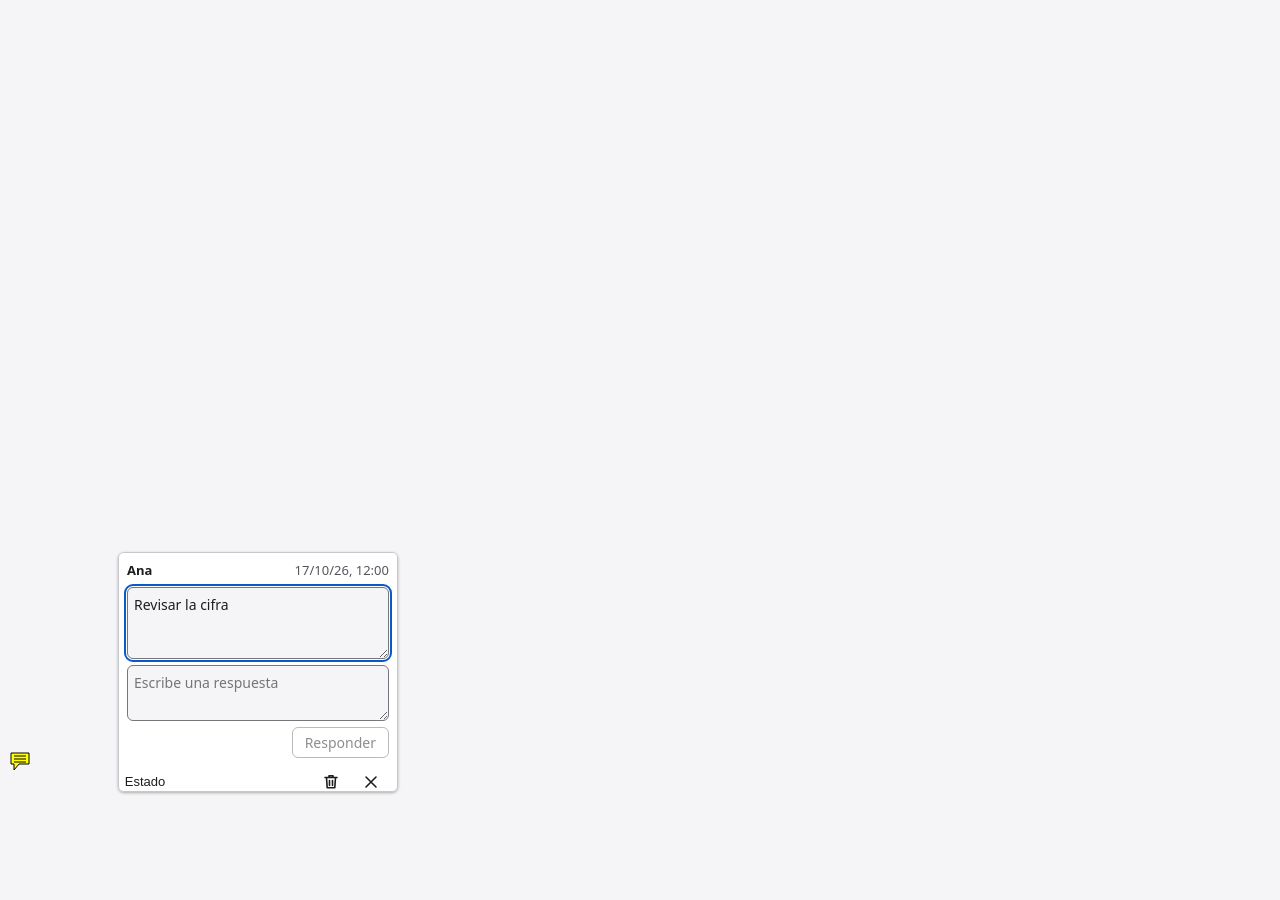
it: Ventana de comentario · respuestas y estados (PDF-109) › editar una respuesta con teclado: Intro confirma, Escape cancela
Step 1. Type "Primera" into the text box labelled "Escribe una respuesta" → {"x": 258, "y": 692}, box x1=127 y1=664 x2=389 y2=720
Step 2. Click the button "Responder" → {"x": 340, "y": 742}, box x1=292 y1=726 x2=389 y2=758
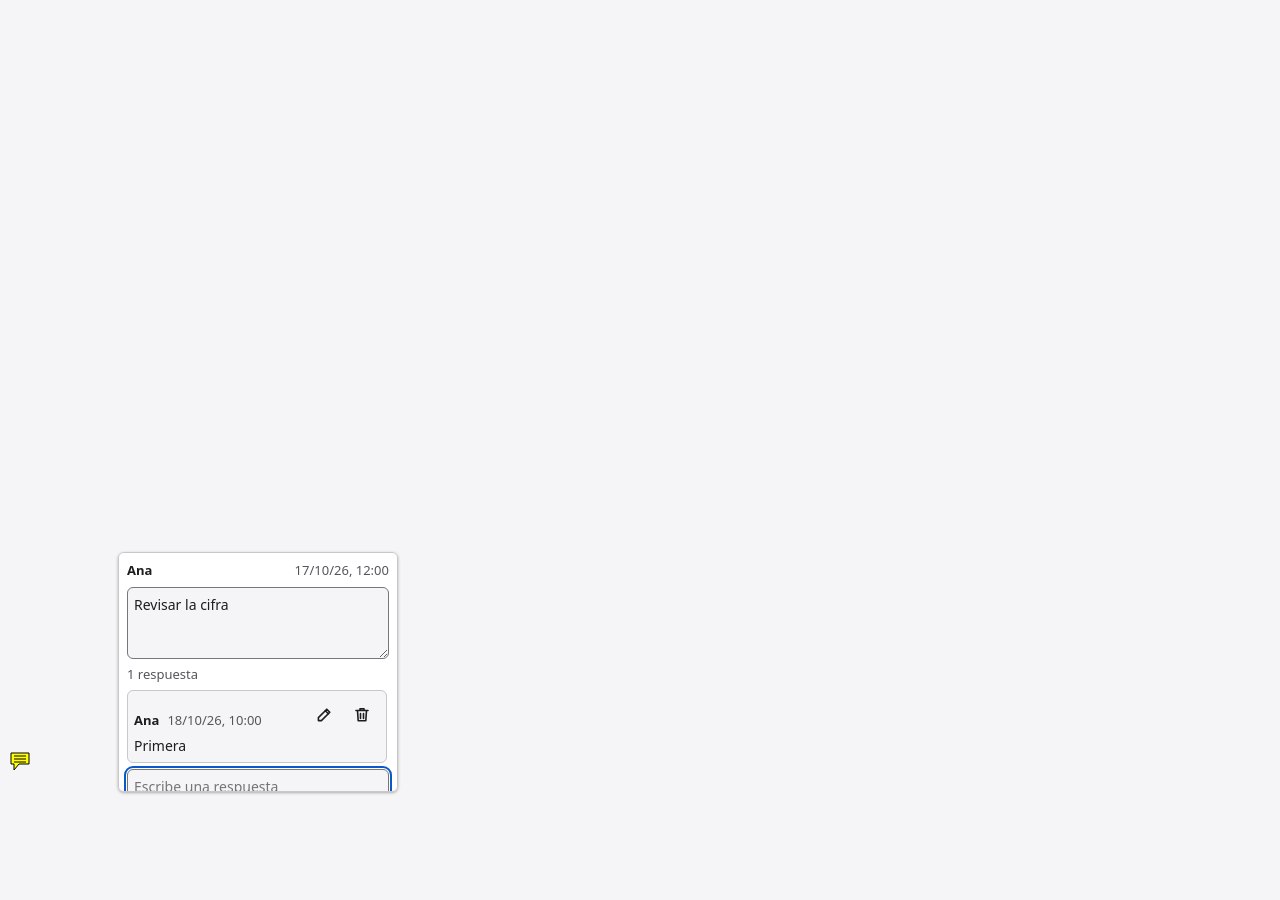
Step 3. Click the button named "Editar respuesta" → {"x": 324, "y": 715}, box x1=306 y1=697 x2=342 y2=733
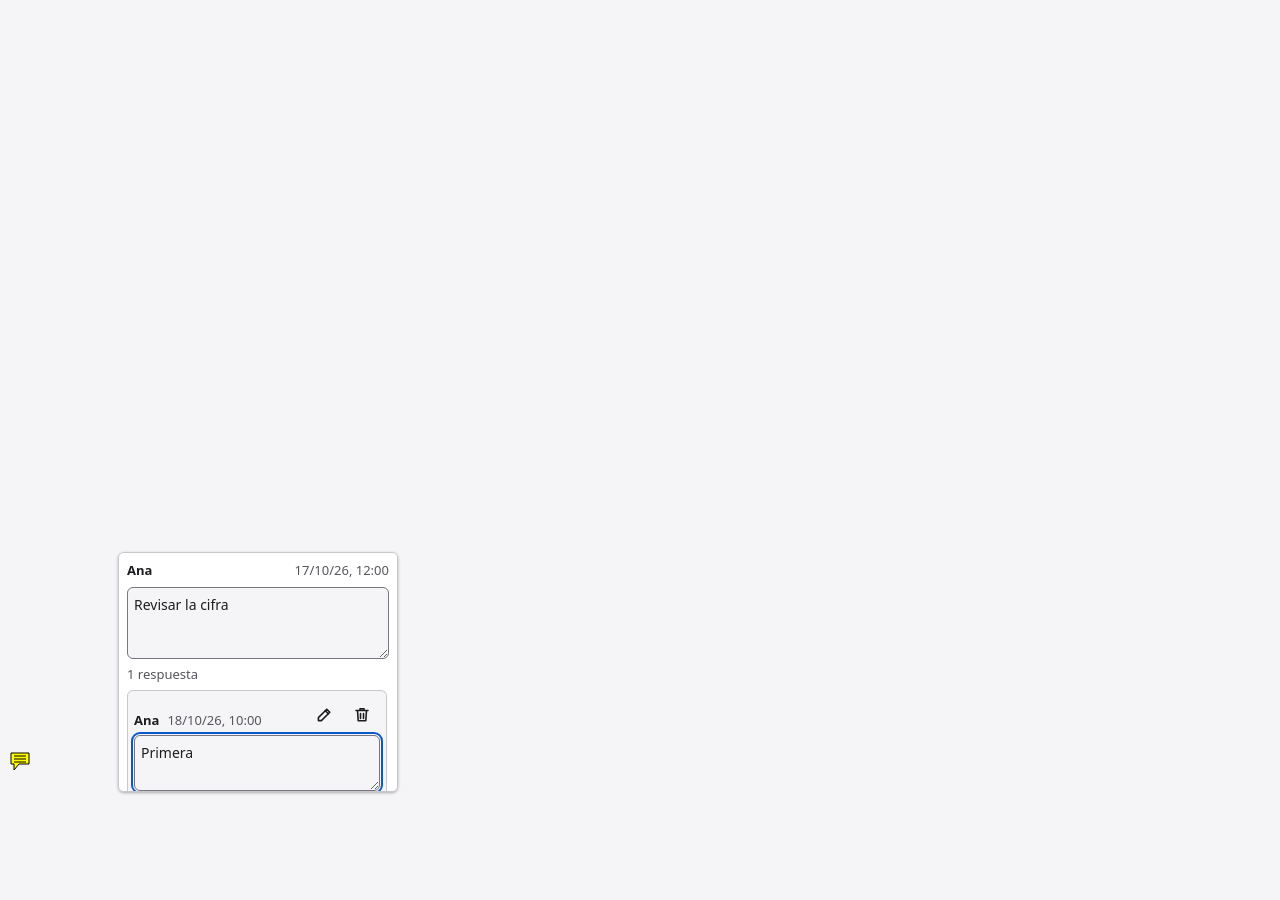
Step 4. Replace the text in the text box named "Editar respuesta" with "Editada" → {"x": 257, "y": 763}, box x1=134 y1=735 x2=380 y2=791
Step 5. Press Escape in the text box named "Editar respuesta", box x1=134 y1=735 x2=380 y2=791
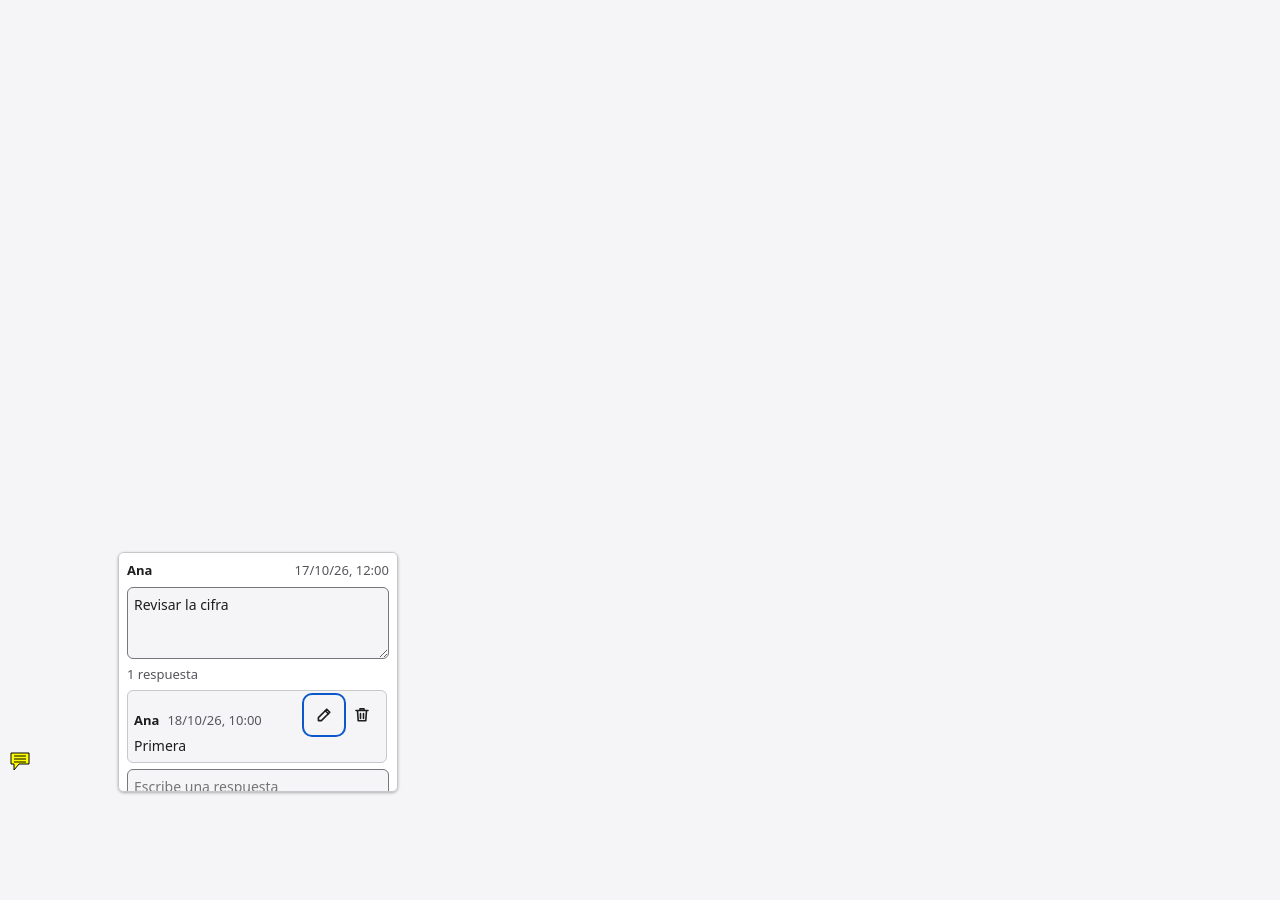
Expected: the dialog is shown, x1=118 y1=552 x2=398 y2=792
Expected: the text "Primera" is shown, x1=134 y1=736 x2=186 y2=755
Step 6. Click the button named "Editar respuesta" → {"x": 324, "y": 715}, box x1=306 y1=697 x2=342 y2=733
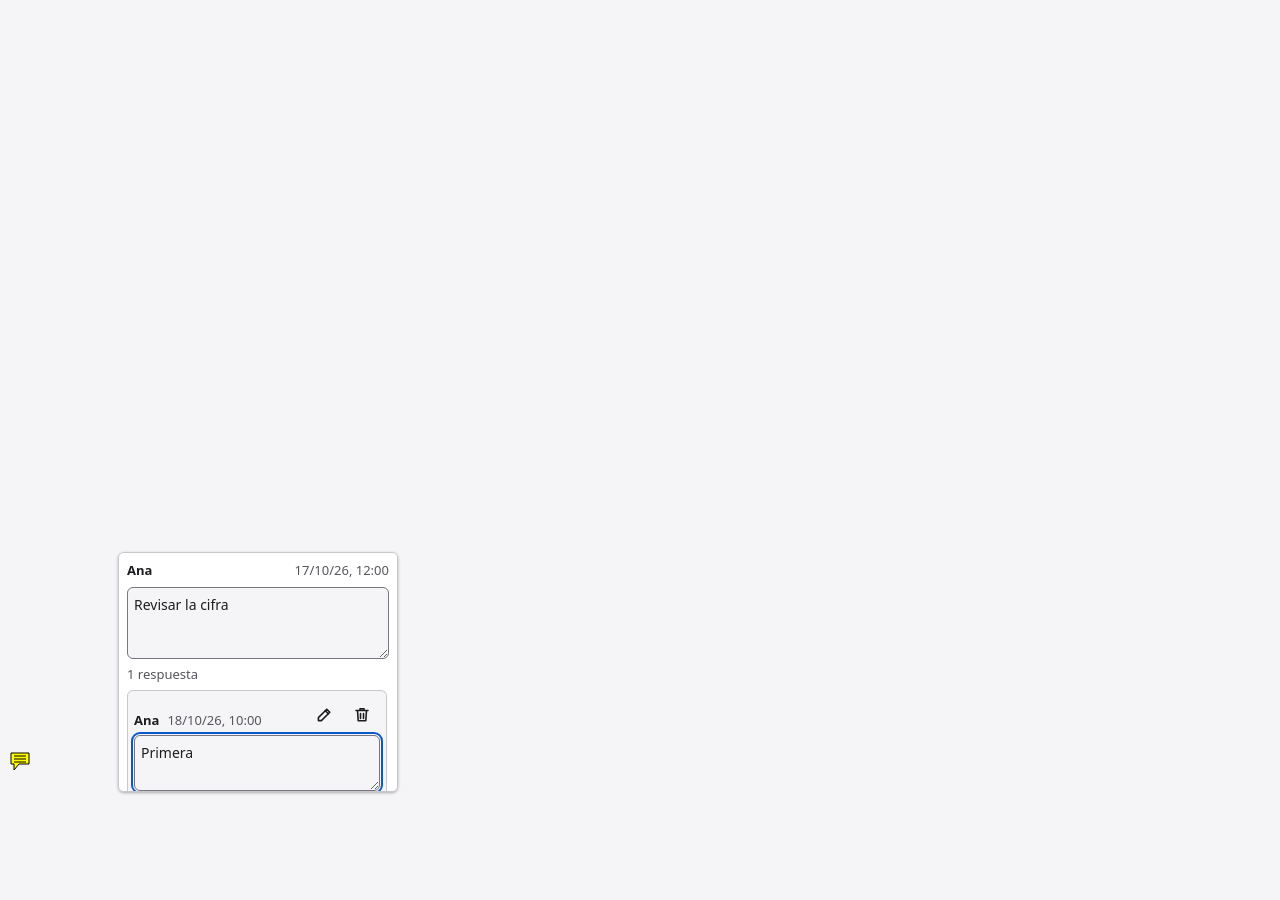
Step 7. Replace the text in the text box named "Editar respuesta" with "Editada" → {"x": 257, "y": 763}, box x1=134 y1=735 x2=380 y2=791
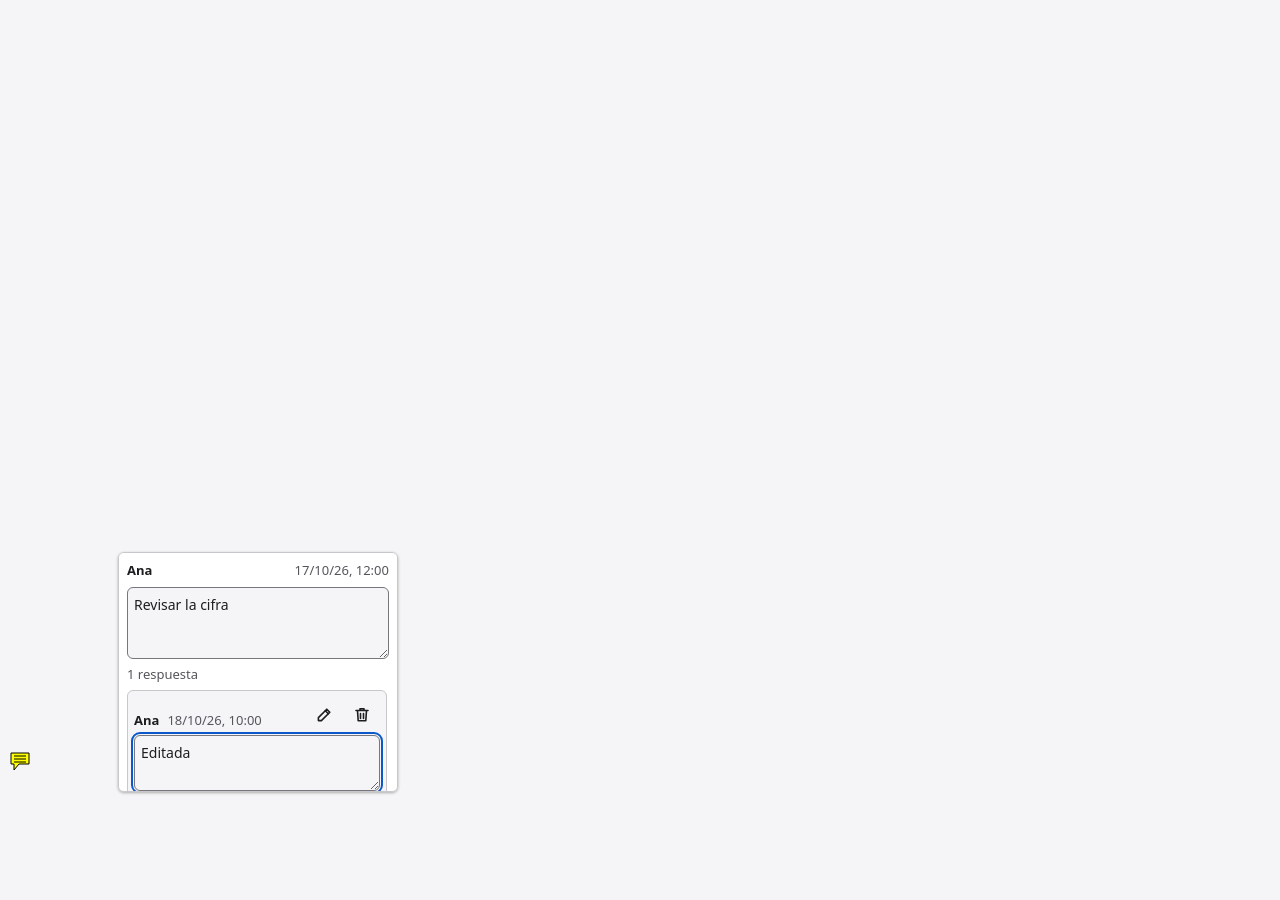
Step 8. Press Enter in the text box named "Editar respuesta", box x1=134 y1=735 x2=380 y2=791
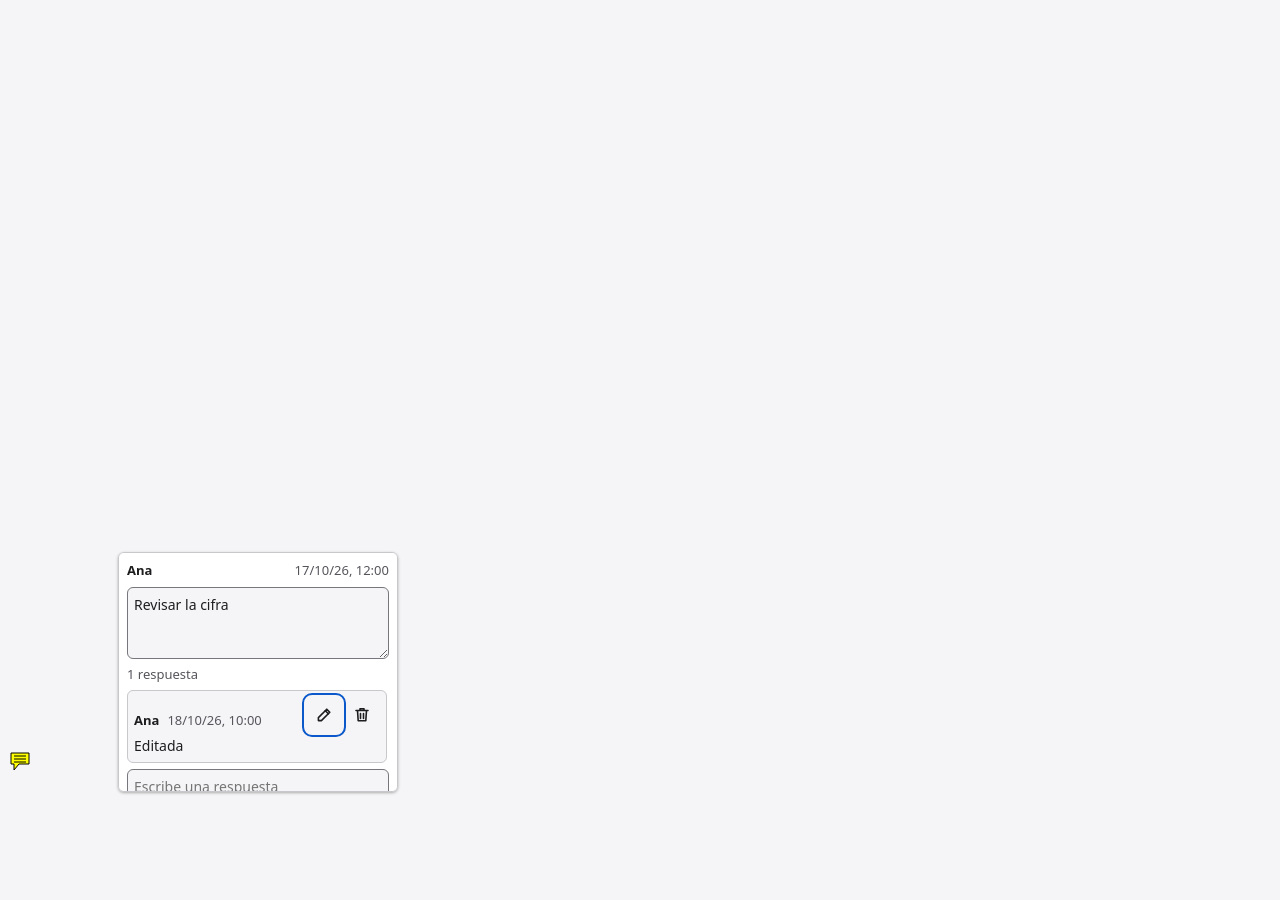
Expected: the text "Primera" is not shown
Expected: the text "Editada" is shown, x1=134 y1=736 x2=183 y2=755
